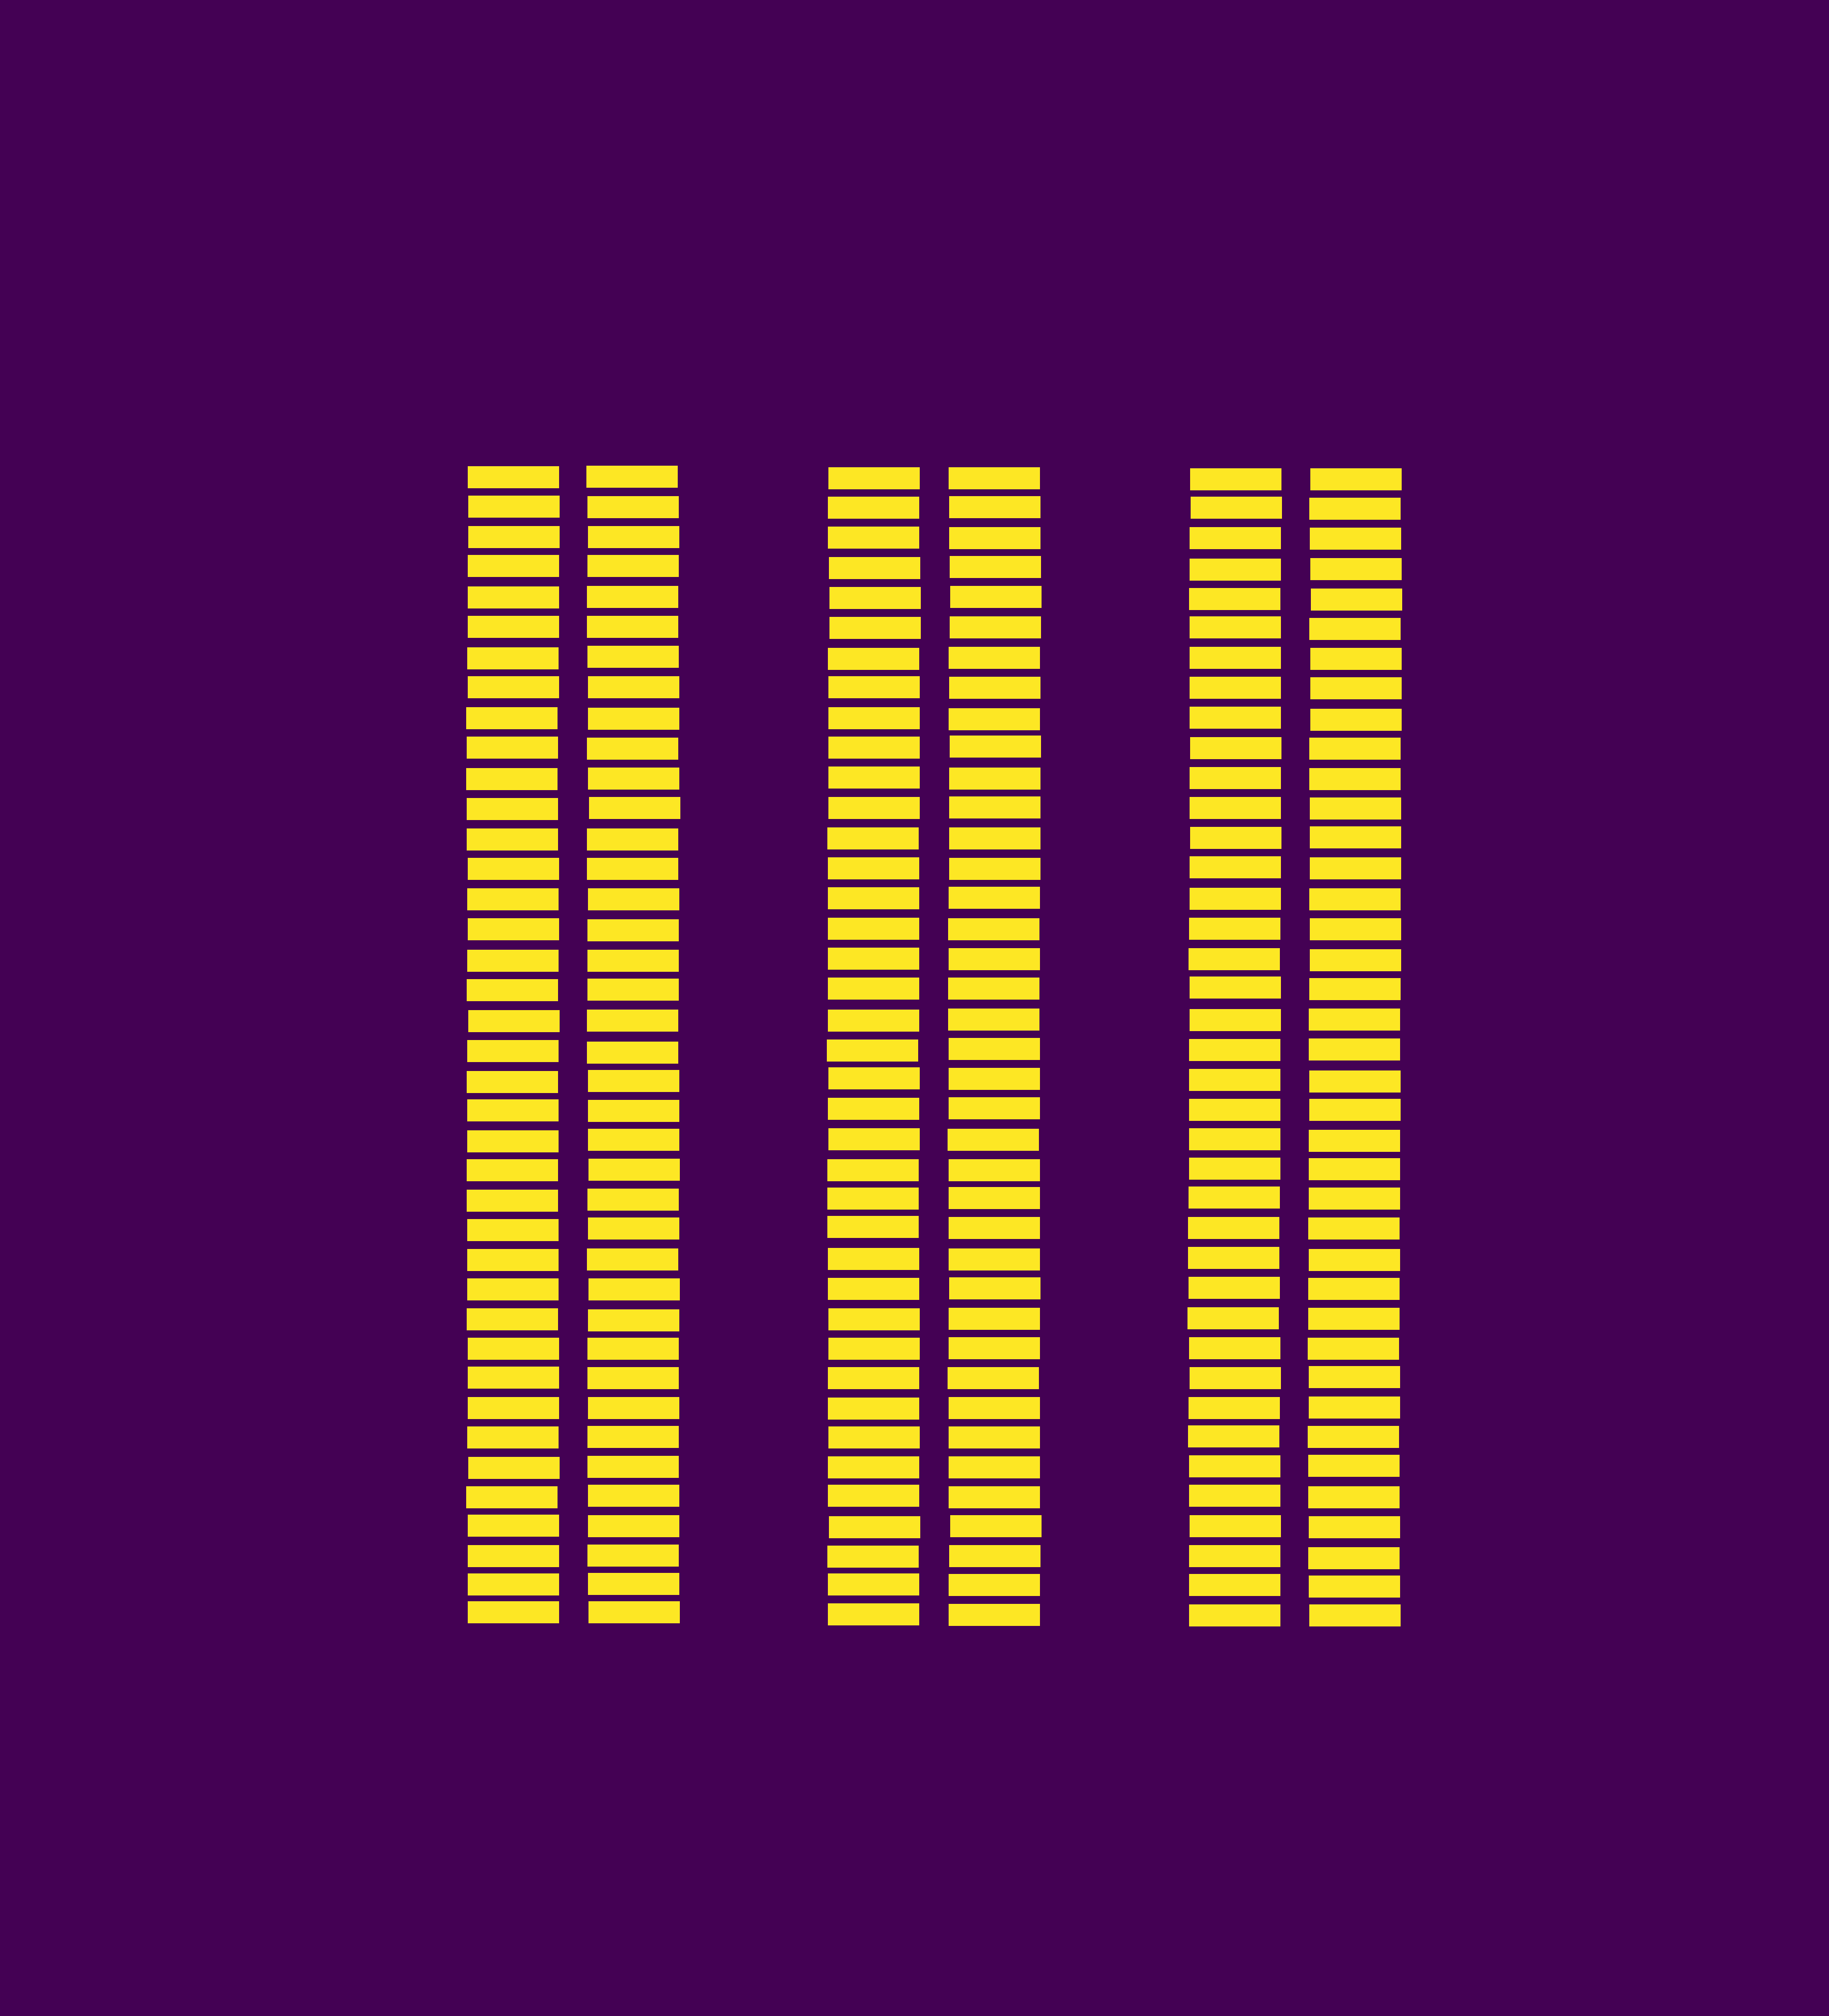plot: (467, 465, 560, 488), (467, 555, 560, 578), (467, 676, 560, 699), (467, 857, 560, 880), (467, 1366, 560, 1389), (467, 1573, 560, 1596), (467, 1514, 560, 1537), (588, 555, 679, 578), (469, 495, 560, 518), (586, 465, 678, 488), (588, 708, 679, 731), (588, 676, 679, 699), (467, 797, 558, 820), (586, 857, 678, 880), (588, 767, 679, 790), (467, 767, 558, 790), (467, 736, 558, 759), (586, 738, 678, 760), (467, 1040, 558, 1062), (469, 1010, 560, 1033), (588, 1069, 679, 1092), (586, 1041, 678, 1064), (588, 978, 679, 1001), (588, 918, 679, 941), (467, 1219, 558, 1242), (588, 1217, 679, 1240), (588, 1099, 679, 1122), (467, 1189, 558, 1212), (467, 1159, 558, 1182), (467, 1099, 558, 1122), (588, 1366, 679, 1389), (467, 1308, 558, 1331), (467, 1278, 558, 1301), (467, 1249, 558, 1271), (588, 1278, 679, 1301), (588, 1484, 679, 1507), (588, 1456, 679, 1479), (588, 1426, 679, 1449), (467, 1486, 558, 1508), (467, 1426, 558, 1449), (828, 467, 920, 490), (828, 557, 920, 580), (950, 527, 1041, 550), (948, 467, 1039, 490), (948, 708, 1039, 731), (950, 676, 1041, 699), (948, 646, 1039, 669), (950, 616, 1041, 639), (828, 676, 920, 699), (830, 616, 922, 639), (830, 587, 922, 609), (828, 857, 920, 880), (827, 827, 918, 850), (828, 766, 920, 788), (828, 736, 920, 759), (950, 857, 1041, 880), (950, 827, 1041, 850), (950, 767, 1041, 790), (828, 887, 920, 910), (948, 1008, 1039, 1031), (827, 1159, 918, 1182), (828, 1127, 920, 1150), (948, 1159, 1039, 1182), (948, 1068, 1039, 1091), (828, 1098, 920, 1120), (948, 1038, 1039, 1061), (950, 1277, 1041, 1300), (948, 1217, 1039, 1240), (828, 1308, 920, 1331), (827, 1215, 918, 1238), (827, 1187, 918, 1210), (948, 1187, 1039, 1210), (948, 1456, 1039, 1479), (948, 1426, 1039, 1449), (948, 1366, 1039, 1389), (828, 1456, 920, 1479), (828, 1426, 920, 1449), (828, 1366, 920, 1389), (948, 1336, 1039, 1359), (828, 1603, 920, 1626), (828, 1573, 920, 1596), (827, 1545, 918, 1568), (828, 1516, 920, 1538), (828, 1484, 920, 1507), (948, 1603, 1039, 1626), (948, 1573, 1039, 1596), (948, 1486, 1039, 1508), (1311, 588, 1402, 611), (1309, 527, 1401, 550), (1309, 497, 1401, 520), (1190, 616, 1281, 639), (1190, 558, 1281, 581), (1190, 527, 1281, 550), (1190, 706, 1281, 729), (1190, 676, 1281, 699), (1190, 646, 1281, 669), (1309, 767, 1401, 790), (1309, 738, 1401, 760), (1309, 857, 1401, 880), (1309, 797, 1401, 820), (1190, 976, 1281, 999), (1309, 978, 1401, 1001), (1309, 1038, 1401, 1061), (1309, 1008, 1401, 1031), (1188, 1157, 1280, 1180), (1188, 1127, 1280, 1150), (1309, 1129, 1401, 1152), (1188, 1247, 1280, 1270), (1309, 1249, 1401, 1271), (1188, 1217, 1280, 1240), (1308, 1217, 1399, 1240), (1309, 1187, 1401, 1210), (1309, 1396, 1401, 1419), (1190, 1366, 1281, 1389), (1188, 1336, 1280, 1359), (1188, 1307, 1280, 1329), (1188, 1277, 1280, 1300), (1309, 1516, 1401, 1538), (1308, 1486, 1399, 1508), (1308, 1454, 1399, 1477), (1308, 1426, 1399, 1449), (1188, 1484, 1280, 1507), (1188, 1573, 1280, 1596), (1309, 1575, 1401, 1598), (1308, 1547, 1399, 1570), (467, 587, 560, 608), (467, 616, 560, 637), (467, 918, 560, 940), (467, 1398, 560, 1419), (467, 1338, 560, 1359), (467, 1545, 560, 1566), (467, 1602, 560, 1623), (586, 587, 678, 608), (469, 527, 560, 548), (588, 527, 679, 548), (588, 497, 679, 518), (586, 616, 678, 637), (467, 708, 558, 729), (588, 646, 679, 667), (467, 648, 558, 669), (467, 889, 558, 910), (588, 889, 679, 910), (467, 829, 558, 850), (586, 829, 678, 850), (590, 797, 681, 818), (467, 1071, 558, 1092), (467, 980, 558, 1001), (467, 950, 558, 971), (586, 1010, 678, 1031), (588, 950, 679, 971), (588, 1189, 679, 1210), (588, 1159, 679, 1180), (588, 1129, 679, 1150), (467, 1131, 558, 1152), (588, 1398, 679, 1419), (588, 1338, 679, 1359), (588, 1310, 679, 1331), (586, 1249, 678, 1270), (588, 1573, 679, 1595), (588, 1545, 679, 1566), (588, 1516, 679, 1537), (469, 1458, 560, 1479), (588, 1602, 679, 1623), (950, 557, 1041, 578), (828, 527, 920, 548), (828, 497, 920, 518), (950, 497, 1041, 518), (950, 587, 1041, 608), (828, 708, 920, 729), (828, 648, 920, 669), (828, 797, 920, 818), (950, 797, 1041, 818), (950, 736, 1041, 757), (828, 1010, 920, 1031), (828, 978, 920, 999), (828, 948, 920, 969), (828, 918, 920, 940), (948, 978, 1039, 999), (948, 948, 1039, 969), (948, 918, 1039, 940), (948, 887, 1039, 908), (948, 1129, 1039, 1150), (948, 1098, 1039, 1119), (828, 1068, 920, 1089), (827, 1040, 918, 1061), (948, 1308, 1039, 1329), (948, 1249, 1039, 1270), (828, 1249, 920, 1270), (828, 1278, 920, 1300), (948, 1398, 1039, 1419), (828, 1398, 920, 1419), (828, 1338, 920, 1359), (950, 1545, 1041, 1566), (950, 1516, 1041, 1537), (1190, 469, 1281, 490), (1190, 497, 1281, 518), (1311, 558, 1402, 580), (1311, 469, 1402, 490), (1188, 588, 1280, 609), (1311, 709, 1402, 731), (1311, 678, 1402, 699), (1311, 648, 1402, 669), (1309, 618, 1401, 639), (1190, 889, 1281, 910), (1190, 857, 1281, 878), (1309, 827, 1401, 848), (1190, 797, 1281, 818), (1190, 827, 1281, 848), (1190, 767, 1281, 788), (1190, 738, 1281, 759), (1188, 1040, 1280, 1061), (1190, 1010, 1281, 1031), (1188, 948, 1280, 969), (1188, 918, 1280, 940), (1309, 950, 1401, 971), (1309, 918, 1401, 940), (1309, 889, 1401, 910), (1309, 1159, 1401, 1180), (1309, 1099, 1401, 1120), (1188, 1099, 1280, 1120), (1188, 1069, 1280, 1091), (1309, 1071, 1401, 1092), (1188, 1187, 1280, 1208), (1188, 1398, 1280, 1419), (1309, 1366, 1401, 1387), (1308, 1338, 1399, 1359), (1308, 1308, 1399, 1329), (1308, 1278, 1399, 1300), (1190, 1516, 1281, 1537), (1188, 1456, 1280, 1477), (1188, 1426, 1280, 1447), (1188, 1605, 1280, 1626), (1188, 1545, 1280, 1566), (1309, 1605, 1401, 1626)
